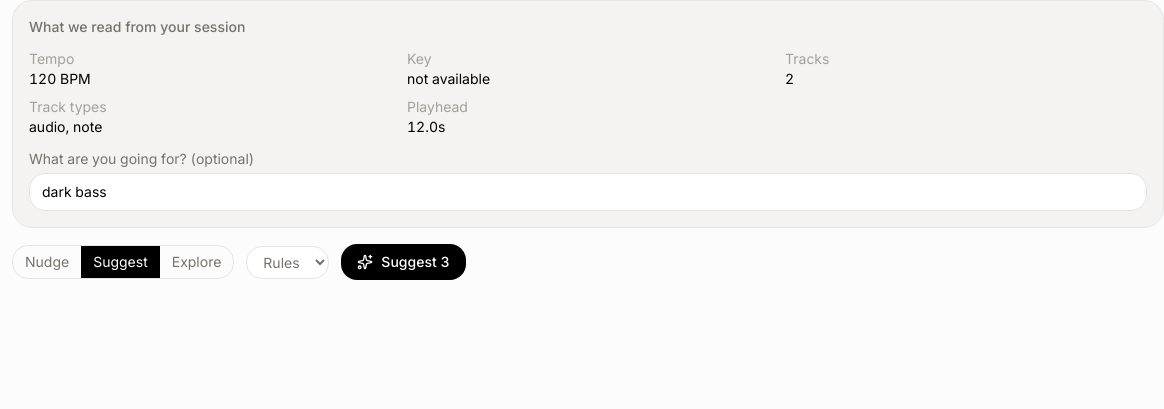
Test: ContinuationPanel › shows a recoverable error when the backend fails
Click the button "Suggest 3".
click(404, 262)  # box [341,244,466,280]
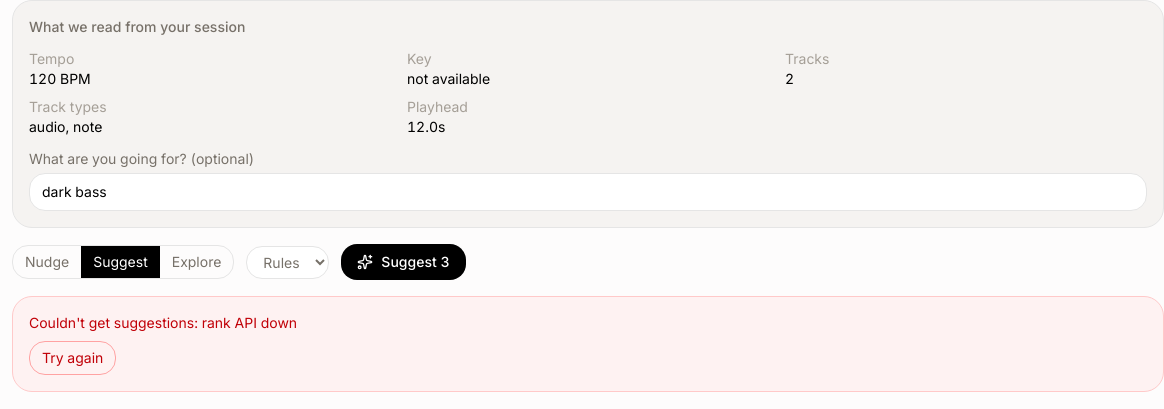
Expected: the text "Couldn't get suggestions: rank API down" is shown, [29,314,297,331]
Expected: the button "Try again" is shown, [29,341,116,375]
